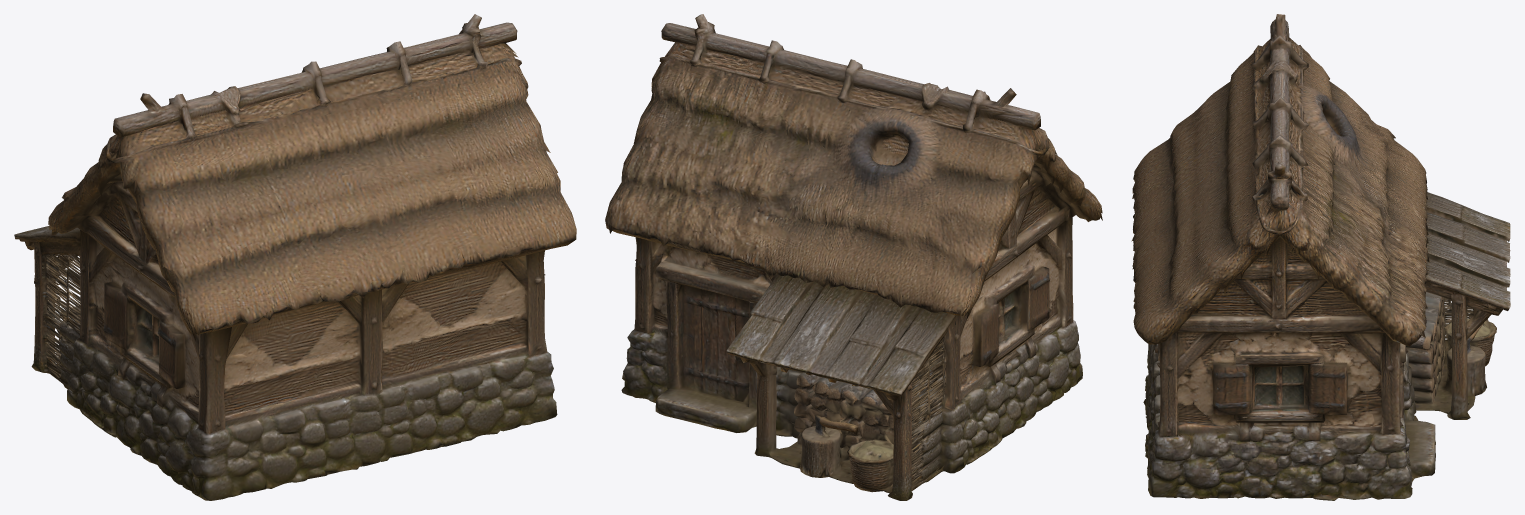
File: cottage.glb
The picture shows the model from 3 angles, left to right: view 1: azimuth 30°, elevation 25°; view 2: azimuth 150°, elevation 25°; view 3: azimuth 270°, elevation 25°; orthographic projection. The views are drawn at different scales.
Parts seen in each view (by area): view 1: tripo_node_52806db3-d9b3-4fdc-a094-3d8e780c24f4; view 2: tripo_node_52806db3-d9b3-4fdc-a094-3d8e780c24f4; view 3: tripo_node_52806db3-d9b3-4fdc-a094-3d8e780c24f4.
Part boxes in pixels (x1,y1,x2,y2): tripo_node_52806db3-d9b3-4fdc-a094-3d8e780c24f4: (14, 14, 576, 500); tripo_node_52806db3-d9b3-4fdc-a094-3d8e780c24f4: (605, 14, 1102, 500); tripo_node_52806db3-d9b3-4fdc-a094-3d8e780c24f4: (1131, 14, 1510, 500).
Size of the model in its own units: 0.9621 by 0.8076 by 0.8395.
1 material, 1 textured.
